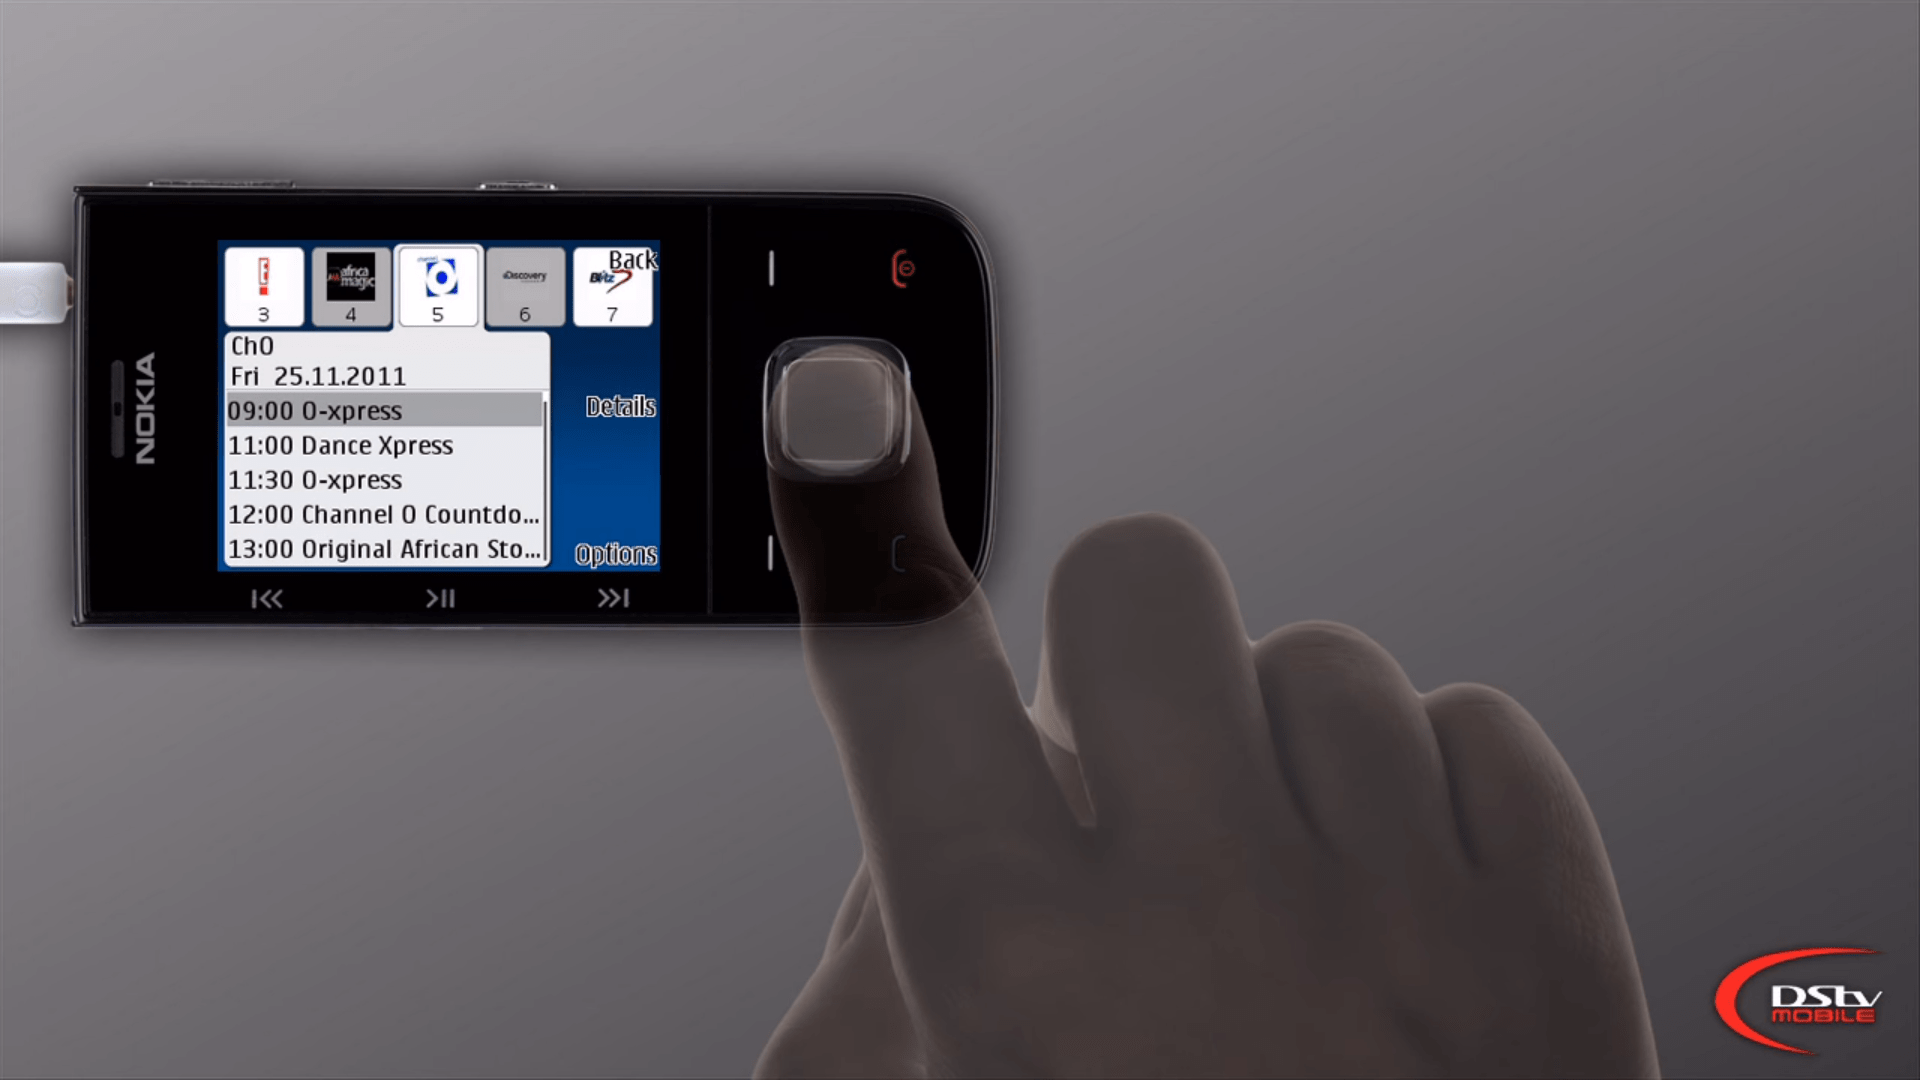hand: (702, 326, 1717, 1069)
phone: (44, 142, 1040, 649)
